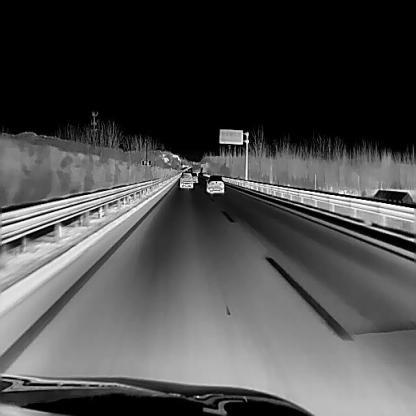car: (206, 174, 224, 192), (179, 171, 192, 188), (191, 171, 198, 182)
